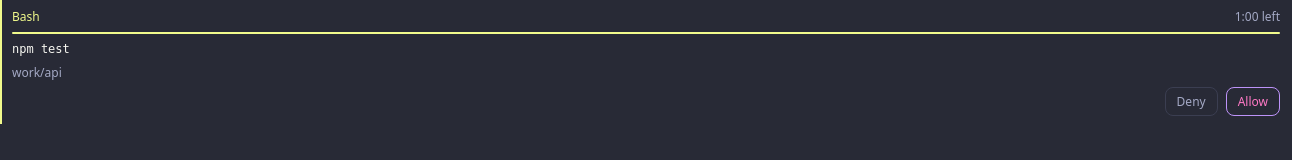
Scenario: allow sends the decision and shows the sending label while busy
What coordinates should you click on to do the following:
click the button "Allow"
I would click on:
 (1253, 102)
Its box is [1226, 87, 1280, 116].
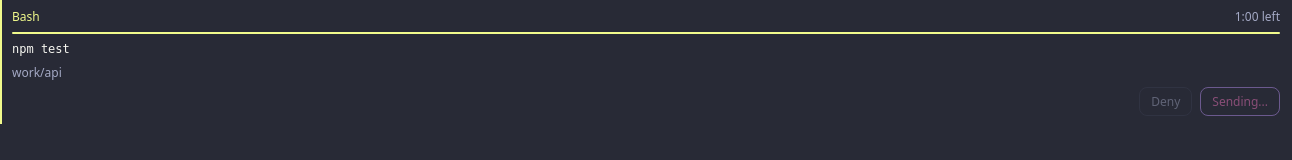
Expected: the button "Sending..." is disabled, [1200, 87, 1280, 116]
